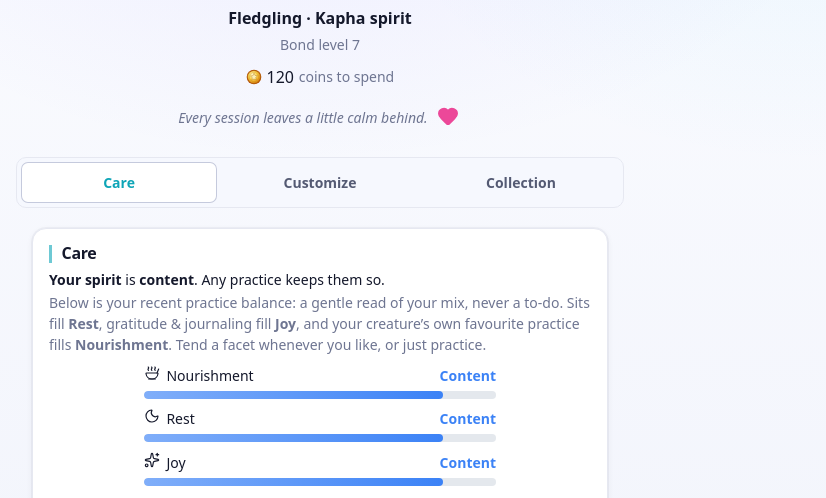
it: SpiritPage collection gallery › shows a concise empty-collection note when there are no retired spirits
(page scrolled)
Click the button "Collection" at [521, 183], box [423, 162, 619, 204]
(page scrolled)
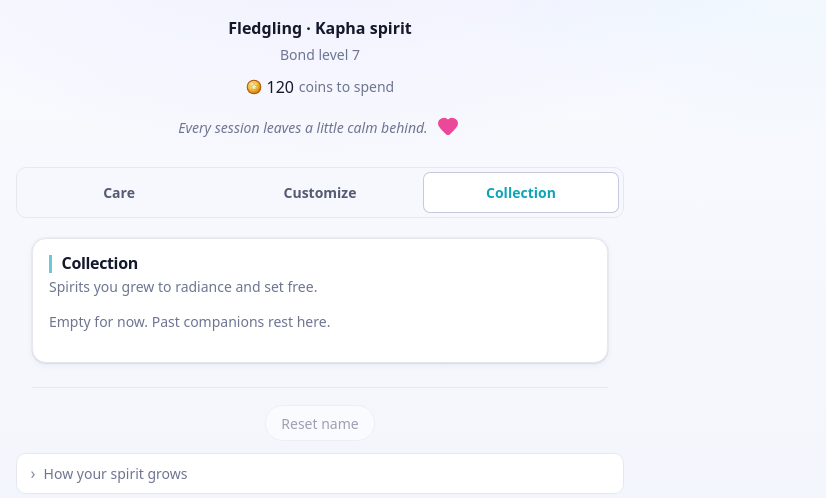
Expected: the text "Empty for now. Past companions rest here." is shown, [49, 312, 330, 331]
